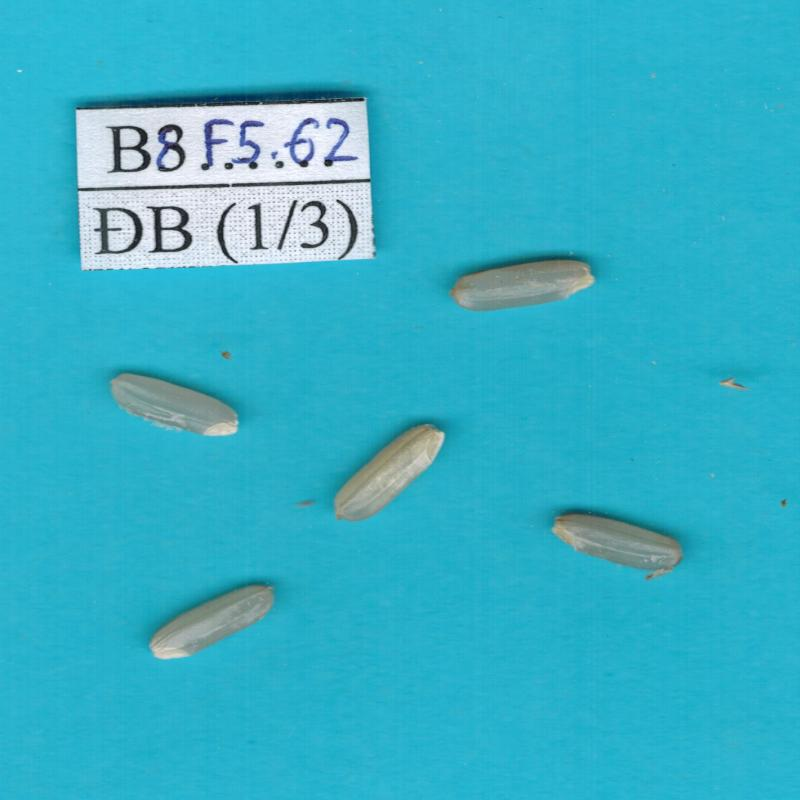Rice: (334, 424, 445, 522), (150, 584, 275, 659), (110, 373, 239, 436), (552, 514, 683, 571), (449, 260, 595, 311)
